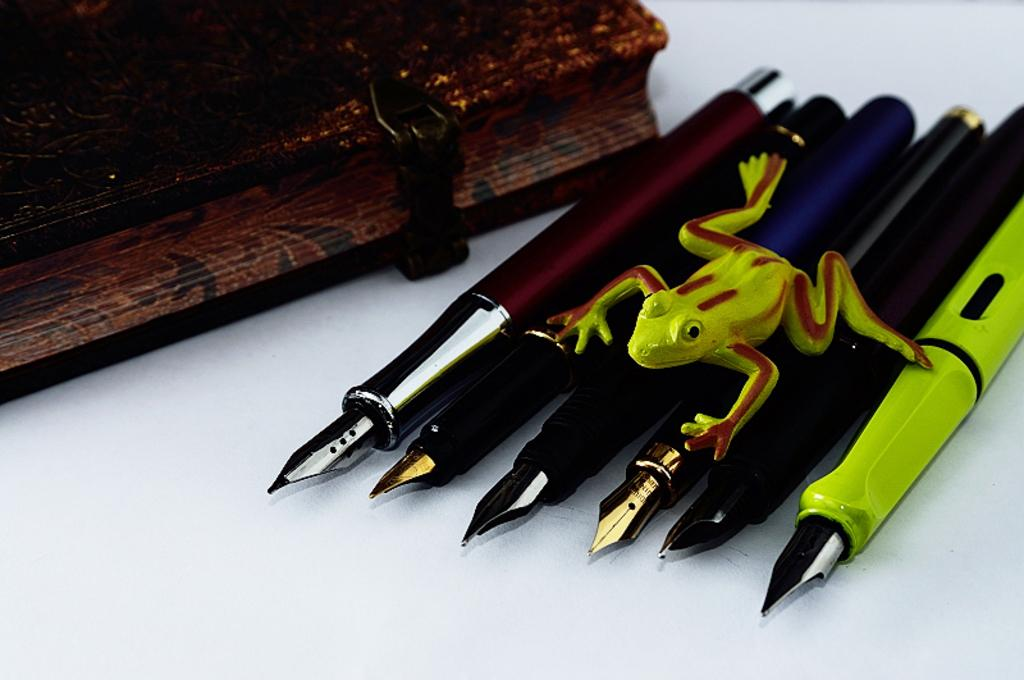pen: (260, 61, 1023, 630)
